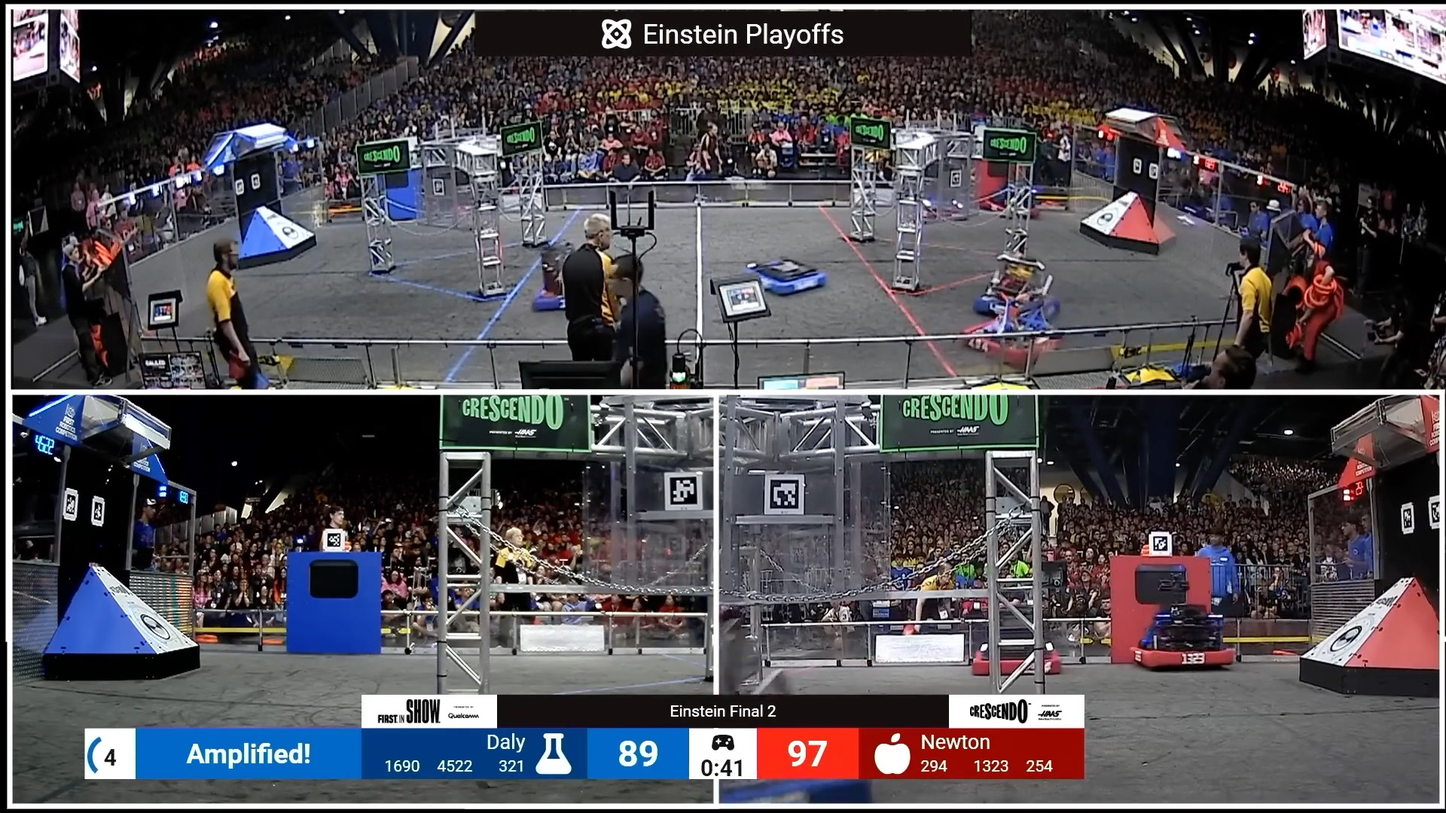bumpers: (1131, 615, 1249, 676), (956, 320, 1067, 369), (966, 285, 1068, 324), (745, 258, 838, 299), (979, 193, 1047, 224), (532, 282, 593, 316)
